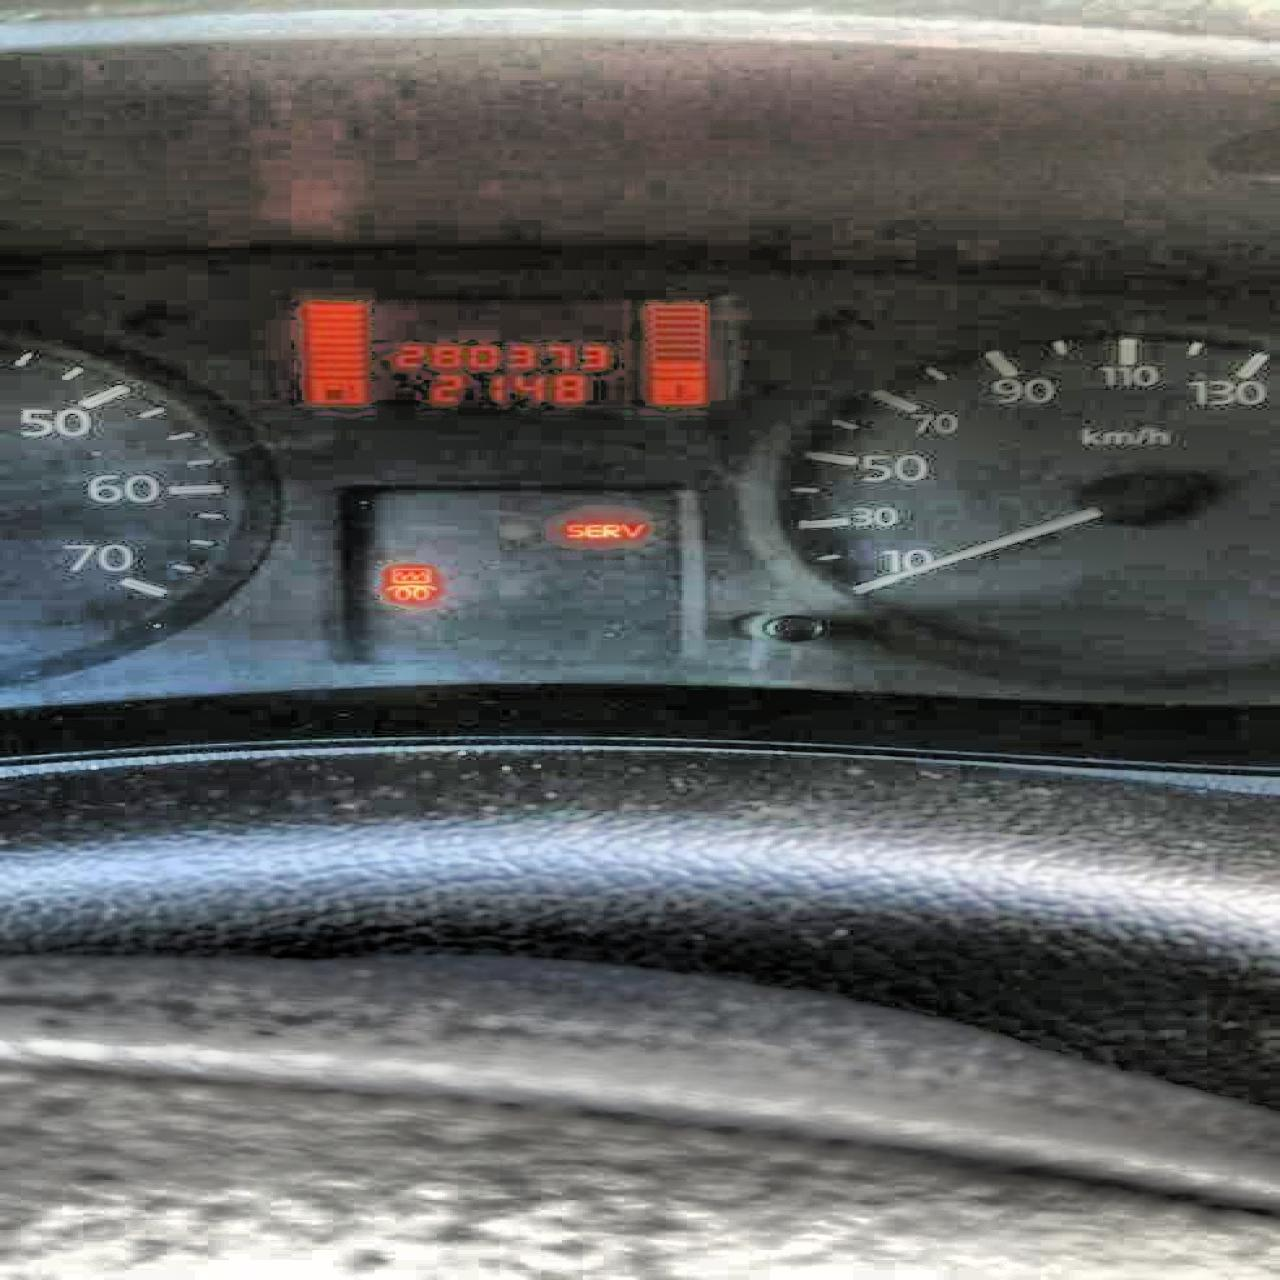0: (467, 345, 497, 367)
1: (489, 375, 505, 401)
2: (427, 374, 463, 401), (396, 343, 424, 368)
3: (580, 343, 604, 368), (508, 343, 533, 366)
4: (510, 374, 546, 400)
7: (542, 342, 572, 367)
8: (551, 374, 583, 401), (429, 343, 461, 366)
odometer: (281, 295, 734, 414)
